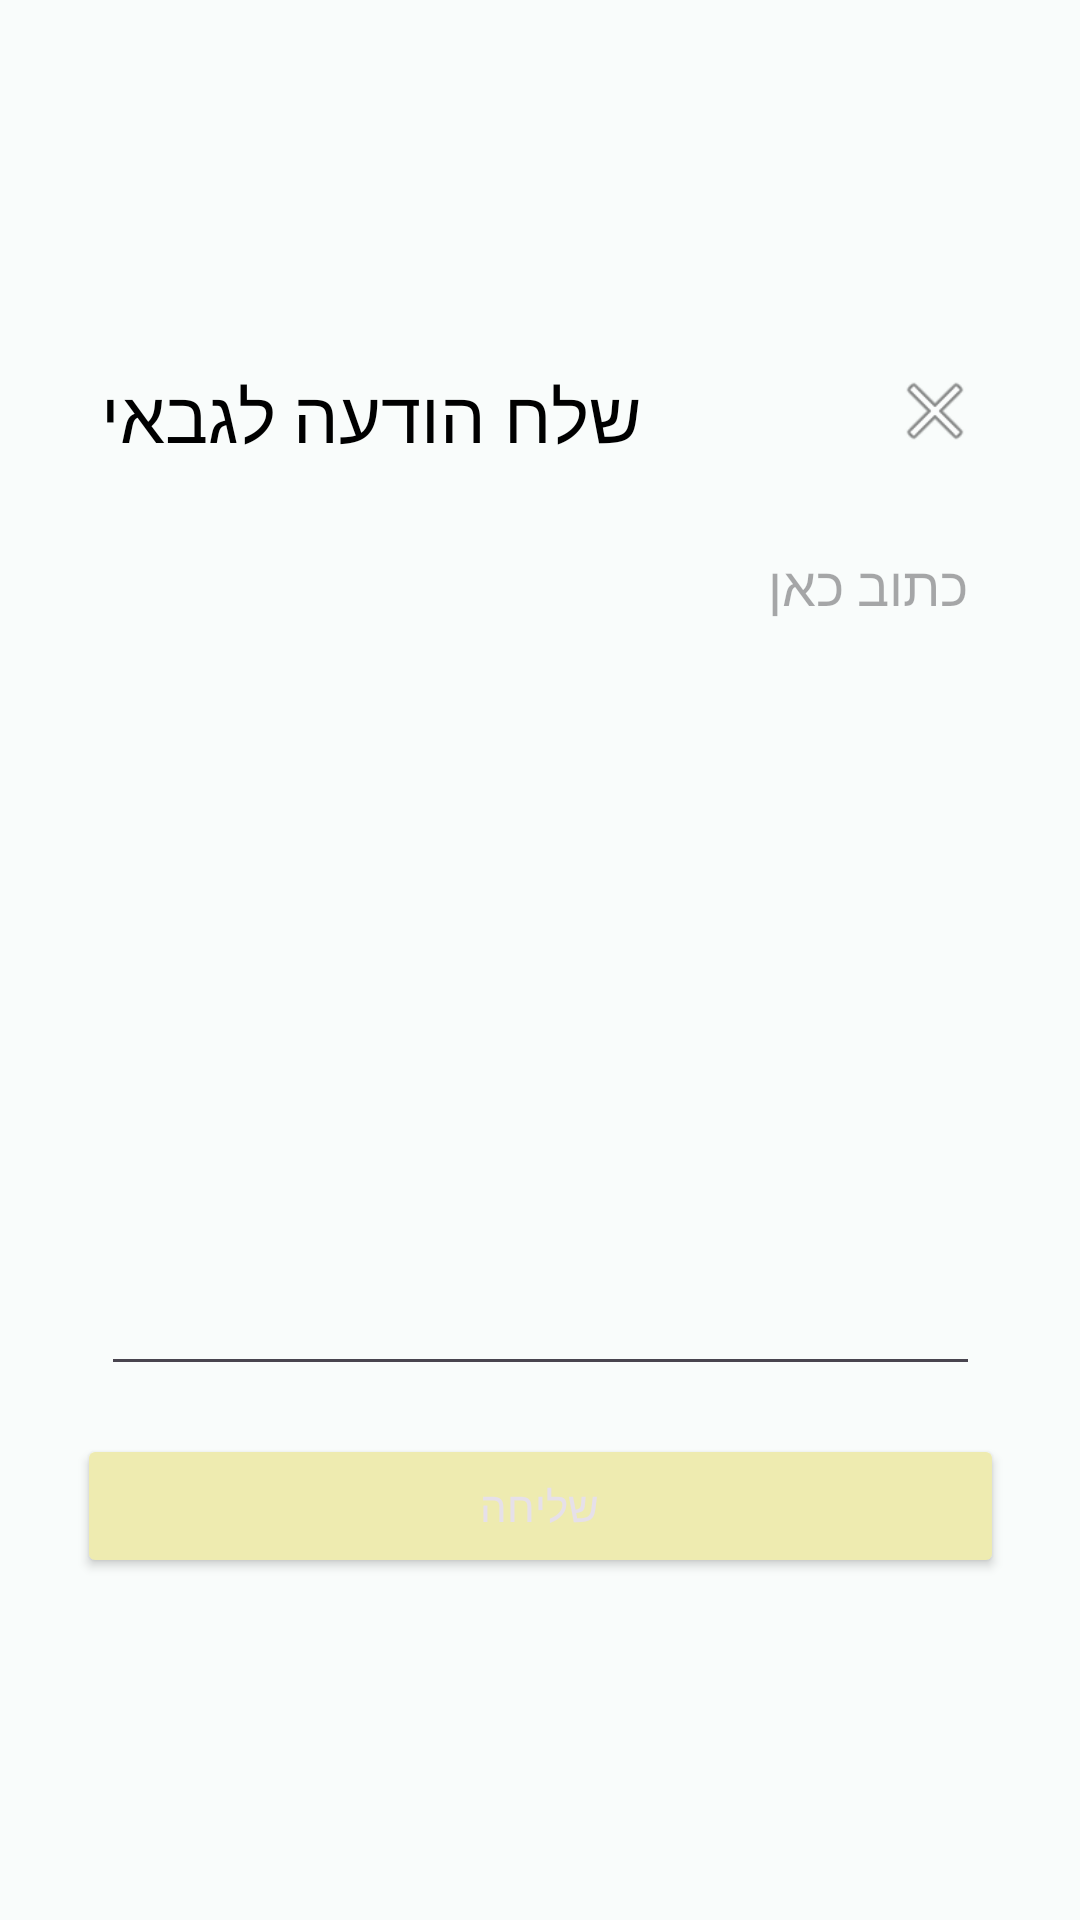

Point at icon controls on the screen. Image size 1080w x 1920h, points as [x,y].
close clear cancel: [935,411]
